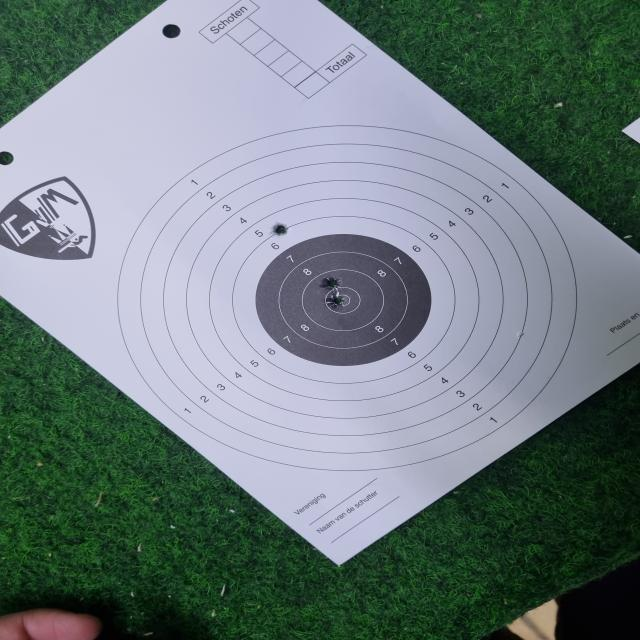2: (318, 274, 342, 294), (327, 292, 346, 310)
7: (270, 222, 289, 236)
Black Contour: (252, 230, 436, 366)
Target: (115, 124, 578, 472)
